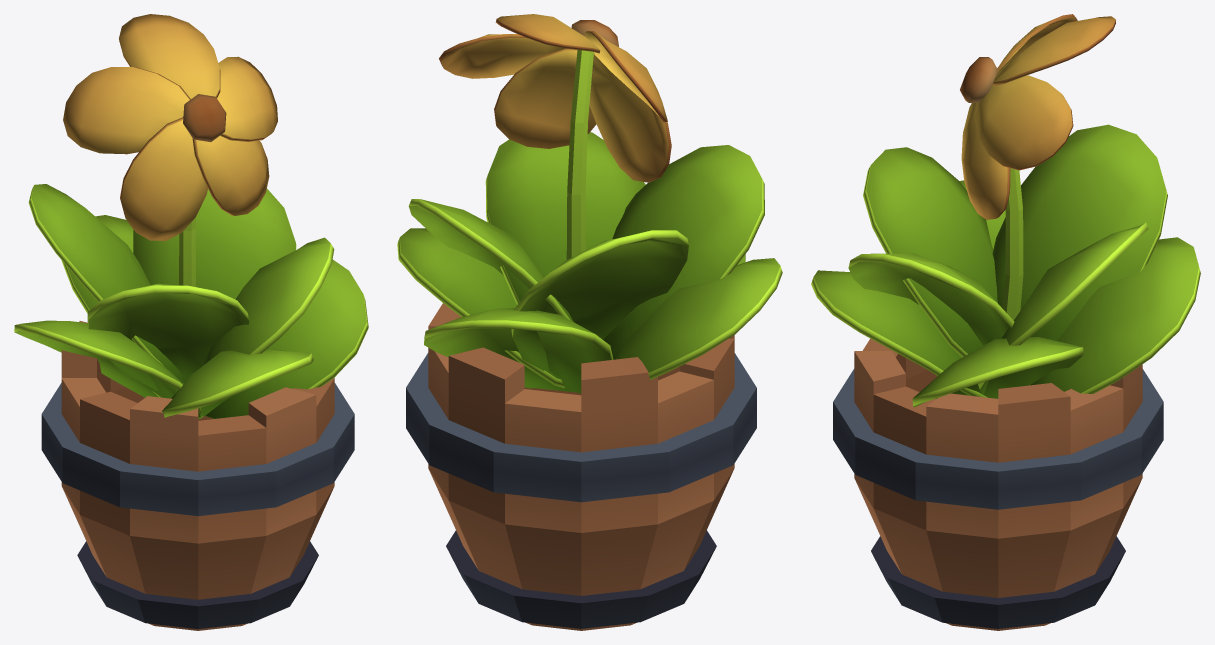
File: mt_prop_plant03.fbx
The picture shows the model from 3 angles, left to right: view 1: azimuth 30°, elevation 25°; view 2: azimuth 150°, elevation 25°; view 3: azimuth 270°, elevation 25°; orthographic projection. The views are drawn at different scales.
Parts seen in each view (by area): view 1: prop_plant03; view 2: prop_plant03; view 3: prop_plant03.
Boxes of the visible parts, left/top/right/bottom form: prop_plant03: left=14, top=14, right=368, bottom=630; prop_plant03: left=397, top=14, right=782, bottom=630; prop_plant03: left=811, top=14, right=1200, bottom=630.
Bounding box in the file's own units: 107 × 170 × 106.
